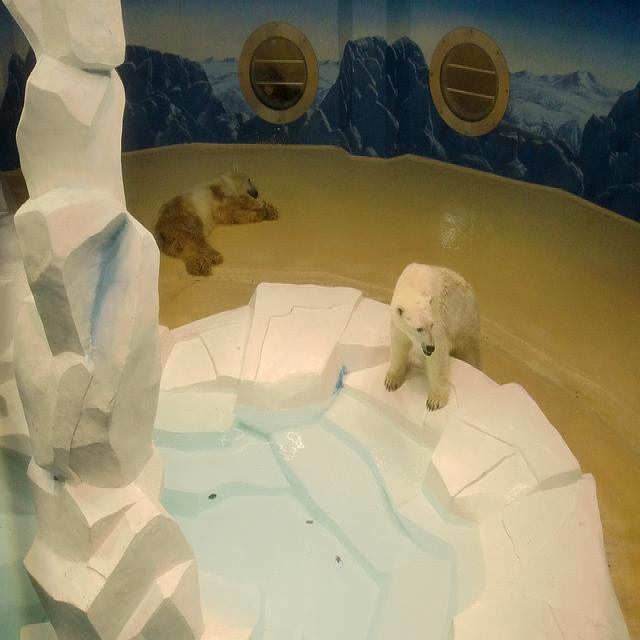Bear: (384, 249, 486, 419), (157, 160, 279, 277)
